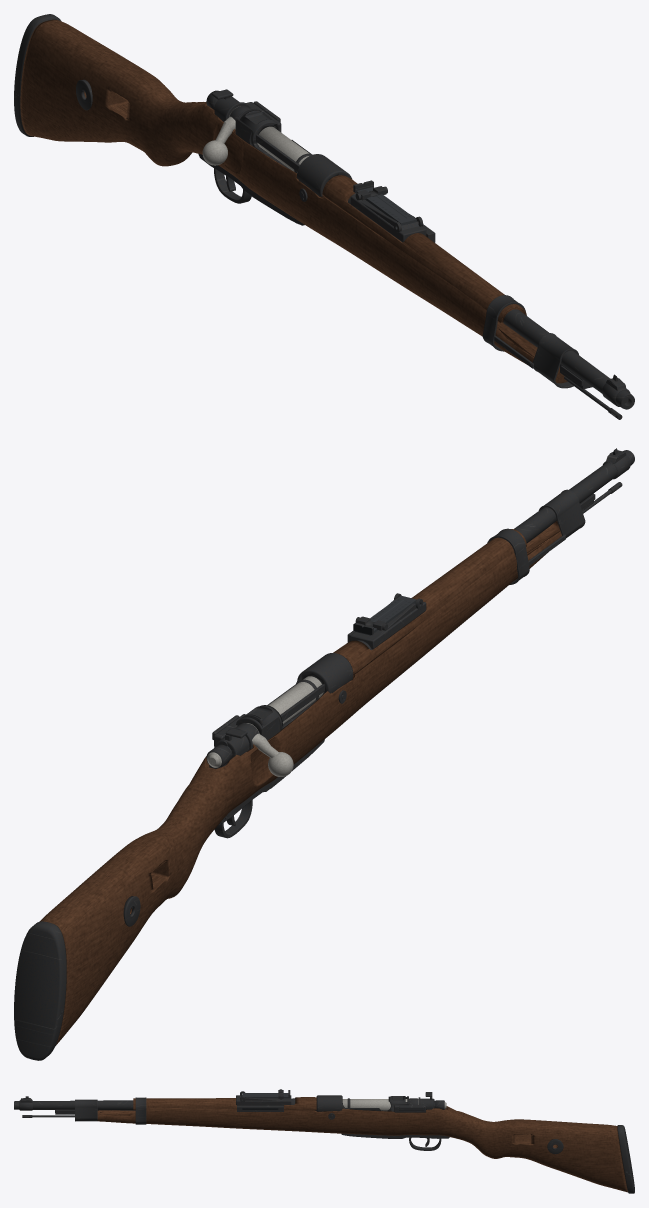
Rendered from SM_Kar98k.fbx.
3 renders of one model, top to bottom at view 1: azimuth 30°, elevation 25°; view 2: azimuth 150°, elevation 25°; view 3: azimuth 270°, elevation 25°, orthographic. The views are drawn at different scales.
Visible parts, largest first — view 1: SM_Kar98k; view 2: SM_Kar98k; view 3: SM_Kar98k.
Part boxes in pixels (x1,y1,x2,y2): SM_Kar98k: (14,14,634,419); SM_Kar98k: (14,448,634,1060); SM_Kar98k: (14,1089,634,1193).
Size of what is drawn, in the model's own units: 7.36 by 110 by 19.66.
